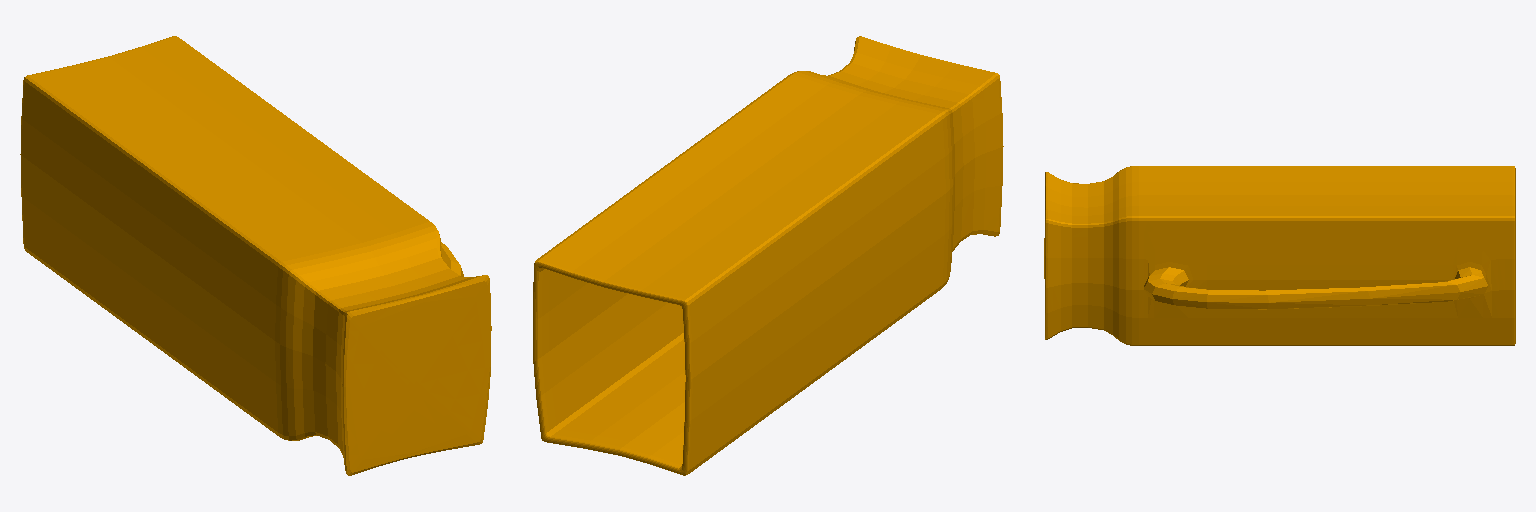
URDF robot description (288):
<?xml version="1.0" ?>
<robot name="288">
  <link name="body">
    <visual>
      <geometry>
        <mesh filename="../shapes/288.obj"/>
      </geometry>
    </visual>
    <collision>
      <geometry>
        <mesh filename="../shapes/288.obj"/>
      </geometry>
    </collision>
  </link>
</robot>

--- Facts derived from the render (not from the file) ---
The picture shows the robot from 3 angles, left to right: view 1: azimuth 30°, elevation 25°; view 2: azimuth 150°, elevation 25°; view 3: azimuth 270°, elevation 25°; orthographic projection.
Model 288 with 1 links and 0 joints (none), rooted at body, posed all joints at 0.
Visible links, largest first — view 1: body; view 2: body; view 3: body.
Boxes of the visible links, x1,y1,x2,y2 form: body: [20, 36, 491, 475]; body: [533, 36, 1003, 475]; body: [1044, 166, 1515, 345].
Bounding box of the posed robot: 3.38 × 8.39 × 2.61 m (x, y, z).
Meshes: 1 distinct files referenced, 1 mesh visuals loaded (1 OBJ).